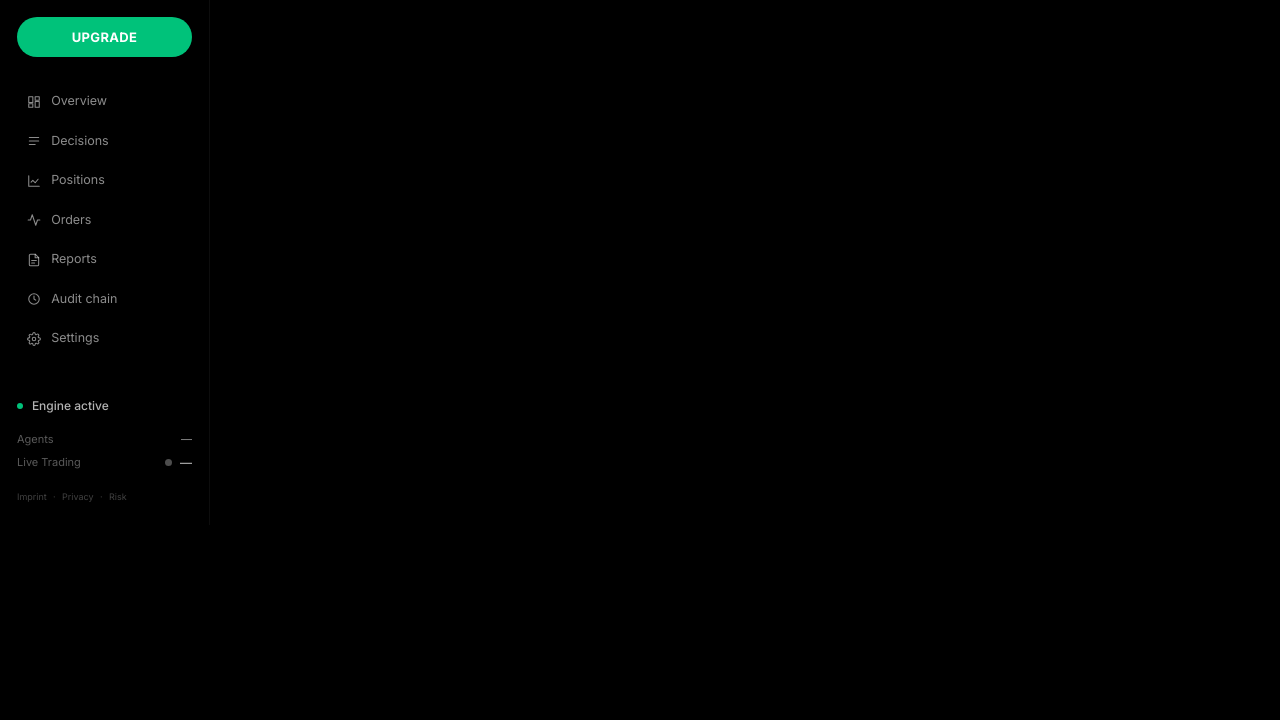
Scenario: console Sidebar › clicking the CTA opens the tier upgrade modal (the Senior claim lives inside it)
The width and height of the screenshot is (1280, 720).
Expected: the text "upgrade your plan" is not shown
Click the button "UPGRADE" at (104,37), box x1=17 y1=17 x2=192 y2=57
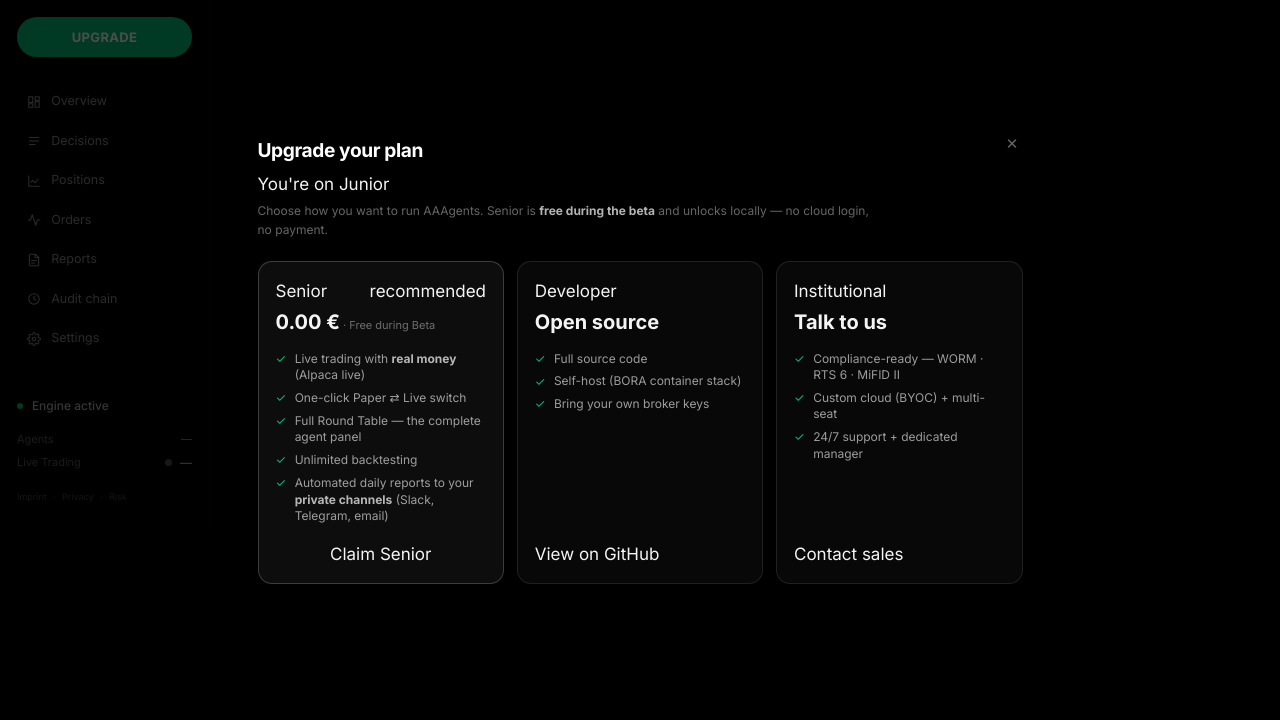
Expected: the heading "Upgrade your plan" is shown, x1=258 y1=136 x2=423 y2=165
Expected: the button "Claim Senior" is shown, x1=276 y1=542 x2=486 y2=566
